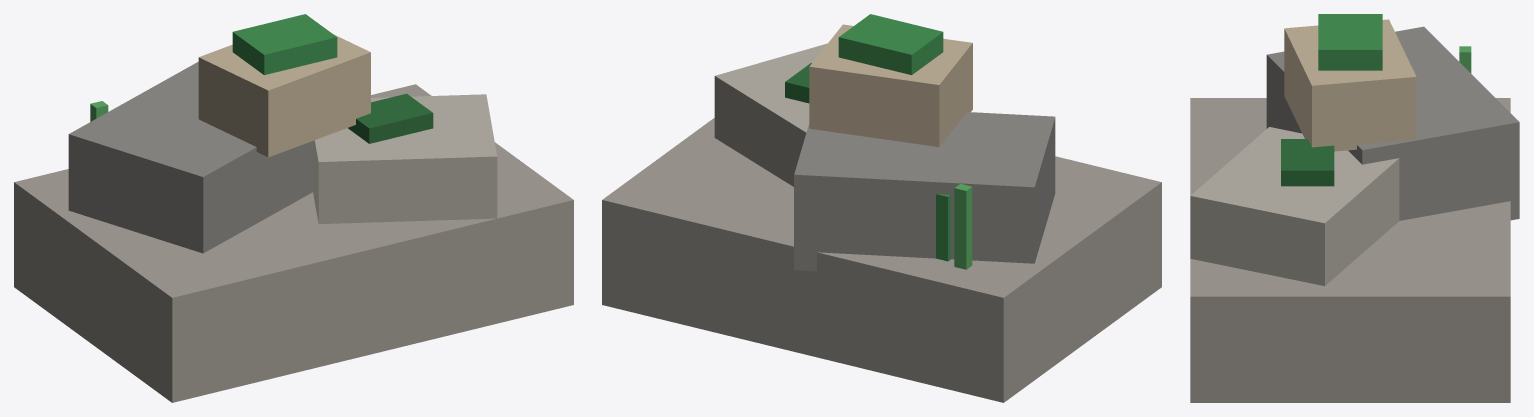
File: vn_rock_small.glb
The picture shows the model from 3 angles, left to right: view 1: azimuth 30°, elevation 25°; view 2: azimuth 150°, elevation 25°; view 3: azimuth 270°, elevation 25°; orthographic projection.
Visible parts, largest first — view 1: rock_small; view 2: rock_small; view 3: rock_small.
Part boxes in pixels (box(x1,y1,x2,y2)): rock_small: box(14, 14, 573, 402); rock_small: box(602, 14, 1161, 402); rock_small: box(1190, 14, 1519, 402).
Bounding box in the file's own units: 0.88 × 0.5525 × 0.6169.
